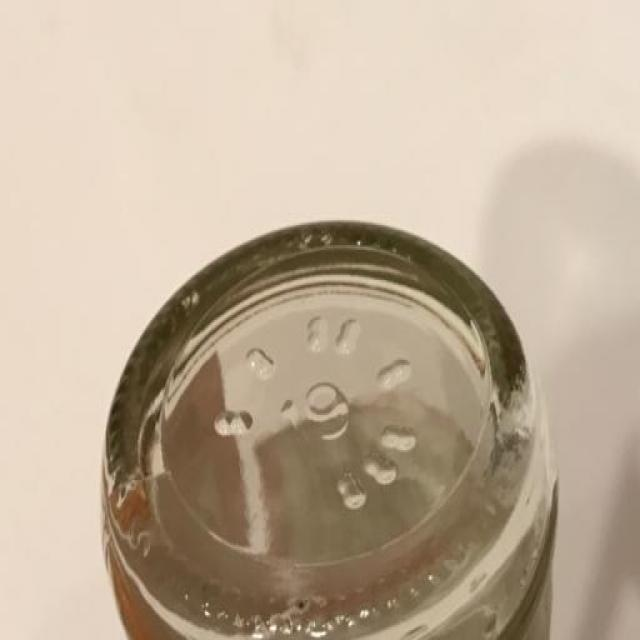glass: (67, 202, 603, 640)
